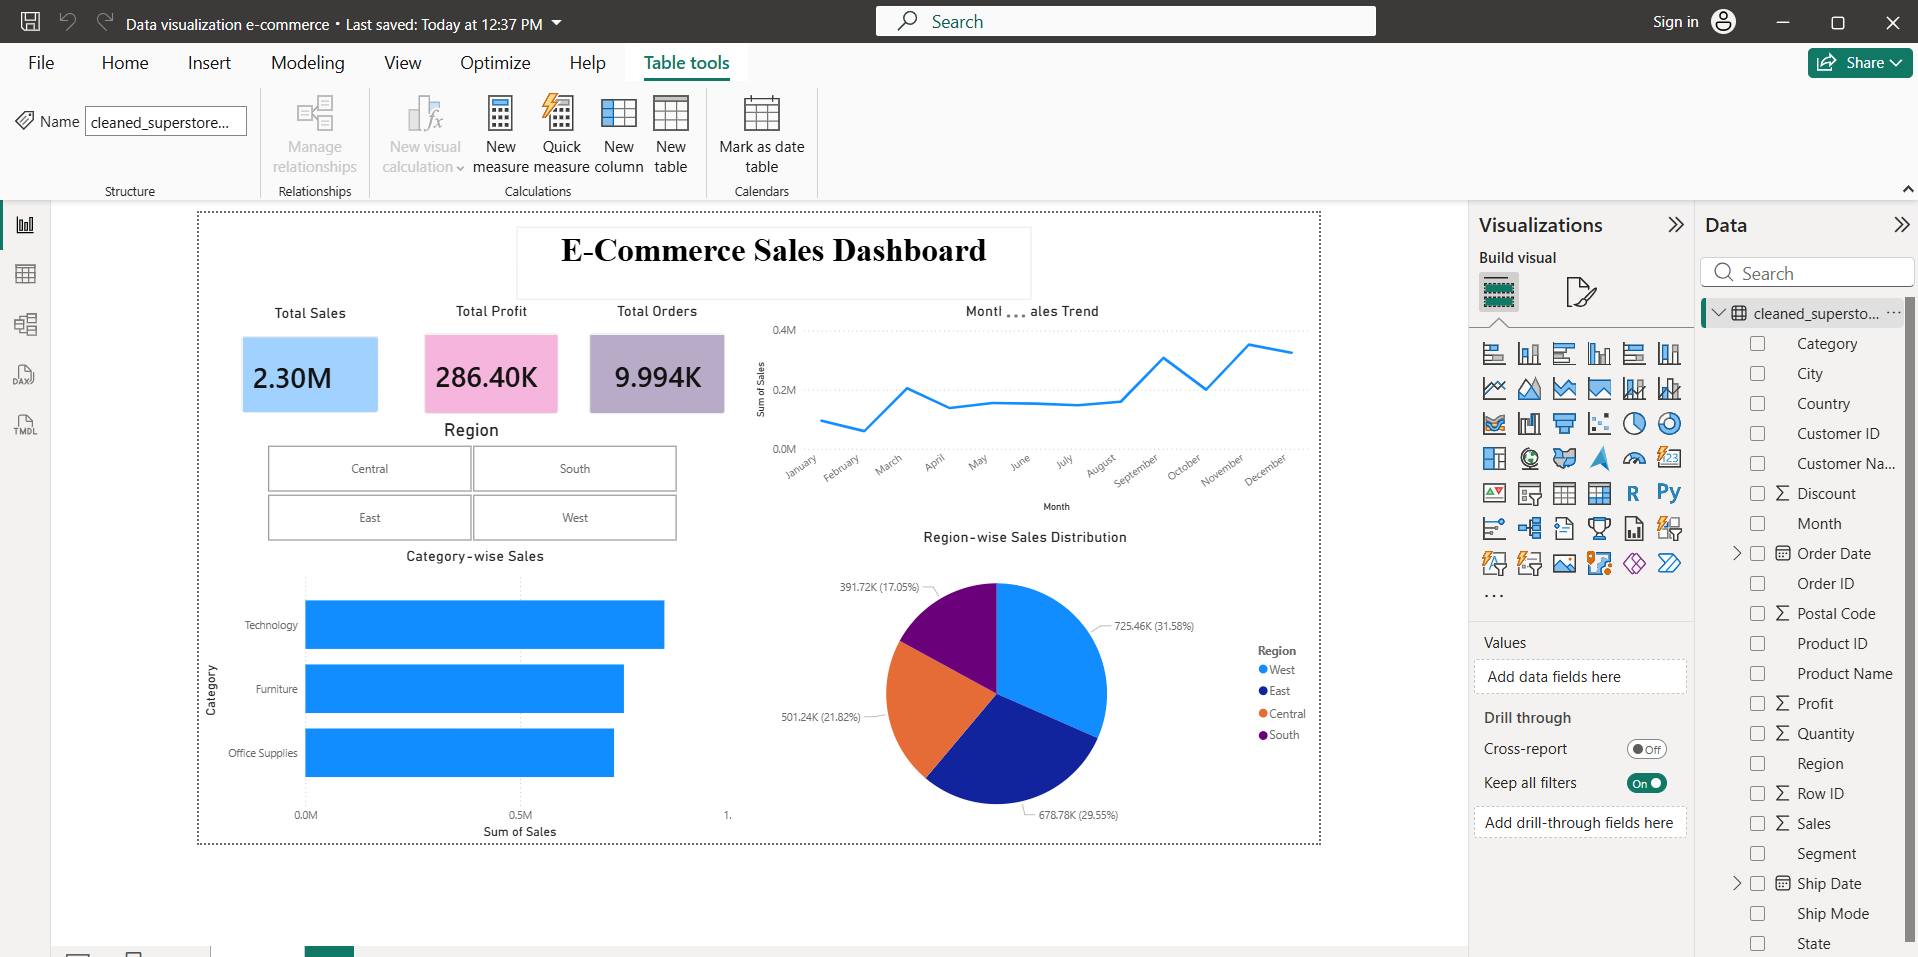

What the dashboard file says about the page in this screenshot:
{"tool":"powerbi","page":{"name":"Page 1","canvas":[1280,720],"ordinal":0},"visuals":[{"type":"cardVisual","title":"Total Sales ","fields":{"Data":["Sum(cleaned_superstore_sales.Sales)"]},"box":[31.4,104.3,191.4,141.4],"z":0},{"type":"cardVisual","title":"Total Profit","fields":{"Data":["Sum(cleaned_superstore_sales.Profit)"]},"box":[240,101.4,188.6,145.7],"z":1000},{"type":"cardVisual","title":"Total Orders","fields":{"Data":["CountNonNull(cleaned_superstore_sales.Order ID)"]},"box":[428.6,101.4,190,145.7],"z":2000},{"type":"clusteredBarChart","title":"Category-wise Sales","fields":{"Category":["cleaned_superstore_sales.Category"],"Y":["Sum(cleaned_superstore_sales.Sales)"]},"box":[0,381.4,631.4,338.6],"z":3000},{"type":"pieChart","title":"Region-wise Sales Distribution","fields":{"Category":["cleaned_superstore_sales.Region"],"Y":["Sum(cleaned_superstore_sales.Sales)"]},"box":[608.6,360,671.4,360],"z":4000},{"type":"lineChart","title":"Monthly Sales Trend","fields":{"Category":["cleaned_superstore_sales.Order Date.Variation.Date Hierarchy.Month"],"Y":["Sum(cleaned_superstore_sales.Sales)"]},"box":[632,102,642,246],"z":5000},{"type":"textbox","box":[363.3,15,588.3,85],"z":6000},{"type":"slicer","title":"Region","fields":{"Values":["cleaned_superstore_sales.Region"]},"box":[52.9,235.7,517.1,145.7],"z":7000}]}

Visuals, with their boxes on the page's 1280x720 design canvas (x1, y1, x2, y2). These are canvas units, not pixel positions in the 1918x957 screenshot, which may show the page scaled, cropped or inside an application window:
"Total Sales " cardVisual: (31, 104, 223, 246)
"Total Profit" cardVisual: (240, 101, 429, 247)
"Total Orders" cardVisual: (429, 101, 619, 247)
"Category-wise Sales" clusteredBarChart: (0, 381, 631, 720)
"Region-wise Sales Distribution" pieChart: (609, 360, 1280, 720)
"Monthly Sales Trend" lineChart: (632, 102, 1274, 348)
textbox: (363, 15, 952, 100)
"Region" slicer: (53, 236, 570, 381)
